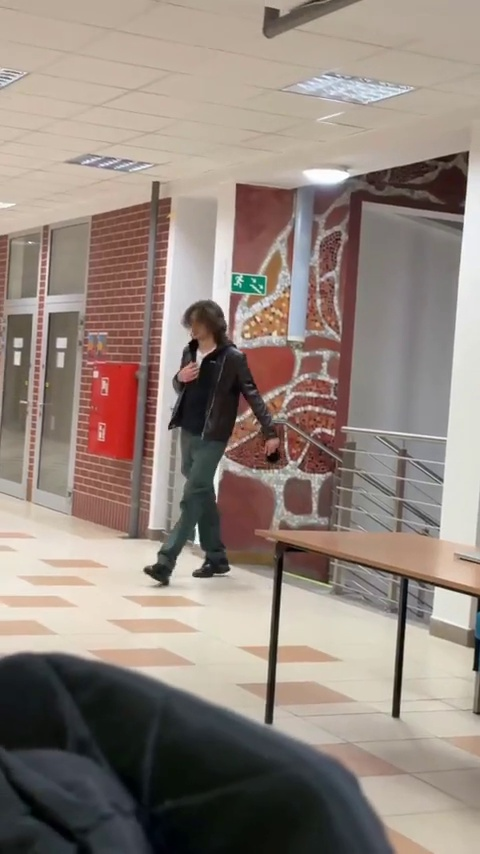no vest: (167, 298, 278, 579)
